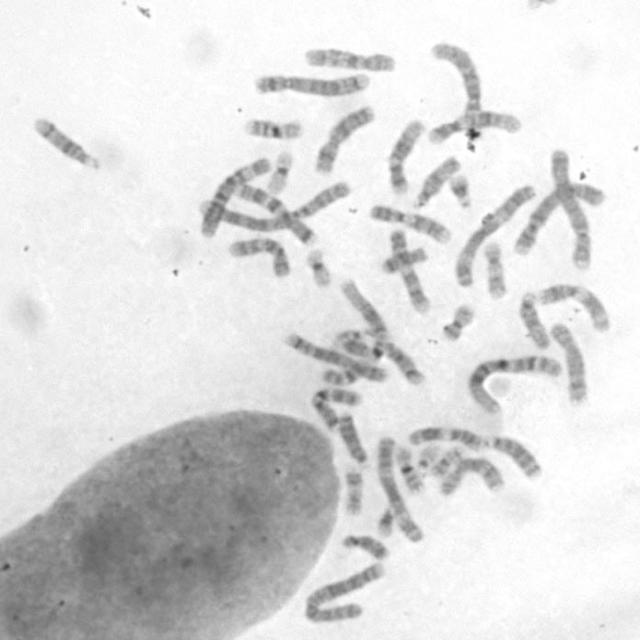A1: (316, 275, 391, 386), (465, 351, 565, 418)
A2: (192, 177, 352, 236), (300, 558, 388, 625)
A3: (450, 181, 539, 290), (374, 432, 426, 543)
B4: (508, 176, 608, 256), (545, 144, 595, 272)
B5: (280, 330, 389, 383), (250, 68, 373, 99)
C10: (225, 233, 293, 279), (301, 44, 398, 74)
C11: (533, 280, 613, 334), (404, 422, 486, 453)
C12: (424, 105, 526, 146), (384, 114, 426, 195)
C6: (426, 39, 484, 154), (196, 154, 272, 238)
C7: (231, 180, 319, 246), (307, 382, 363, 433)
C8: (546, 318, 591, 406), (436, 452, 506, 498)
C9: (385, 225, 433, 315), (364, 200, 453, 246)
D13: (482, 431, 544, 482), (334, 408, 371, 468)
D14: (29, 112, 102, 172), (364, 328, 429, 388)
D15: (409, 151, 462, 210), (516, 286, 552, 351)
E16: (391, 441, 426, 495), (242, 115, 304, 141)
E17: (479, 237, 510, 300), (340, 462, 364, 518)
E18: (340, 530, 391, 561), (378, 244, 428, 275)
F19: (262, 146, 294, 197), (301, 244, 333, 288)
F20: (437, 299, 476, 343), (427, 443, 466, 478)
G21: (446, 171, 474, 209), (373, 502, 397, 539)
G22: (325, 324, 365, 356), (413, 441, 443, 472)
X: (311, 101, 378, 176)
